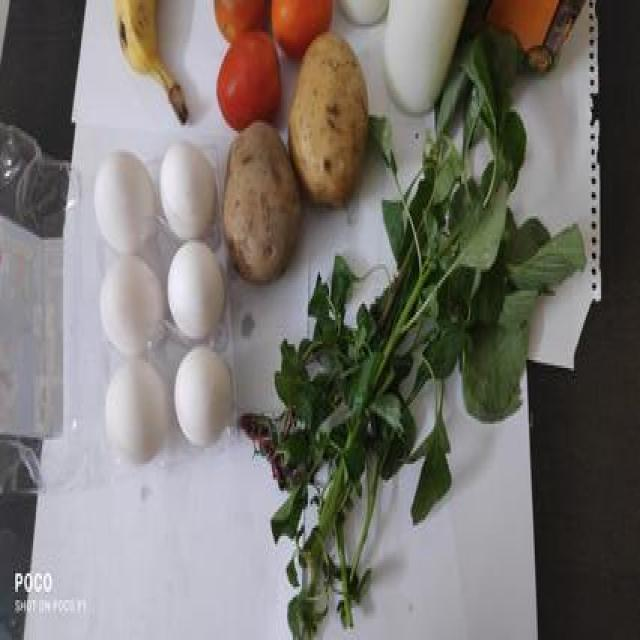Fresh_Spinach: (258, 7, 587, 631)
Fresh_tomato: (215, 21, 280, 121), (207, 0, 266, 43), (271, 0, 332, 37)
